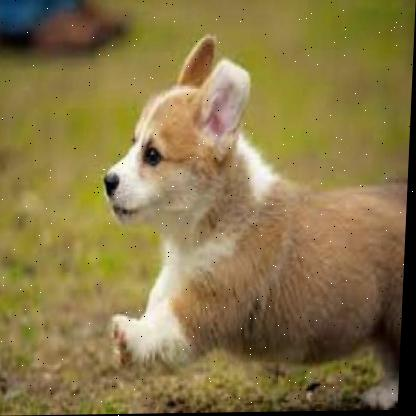dog: (92, 30, 414, 412)
